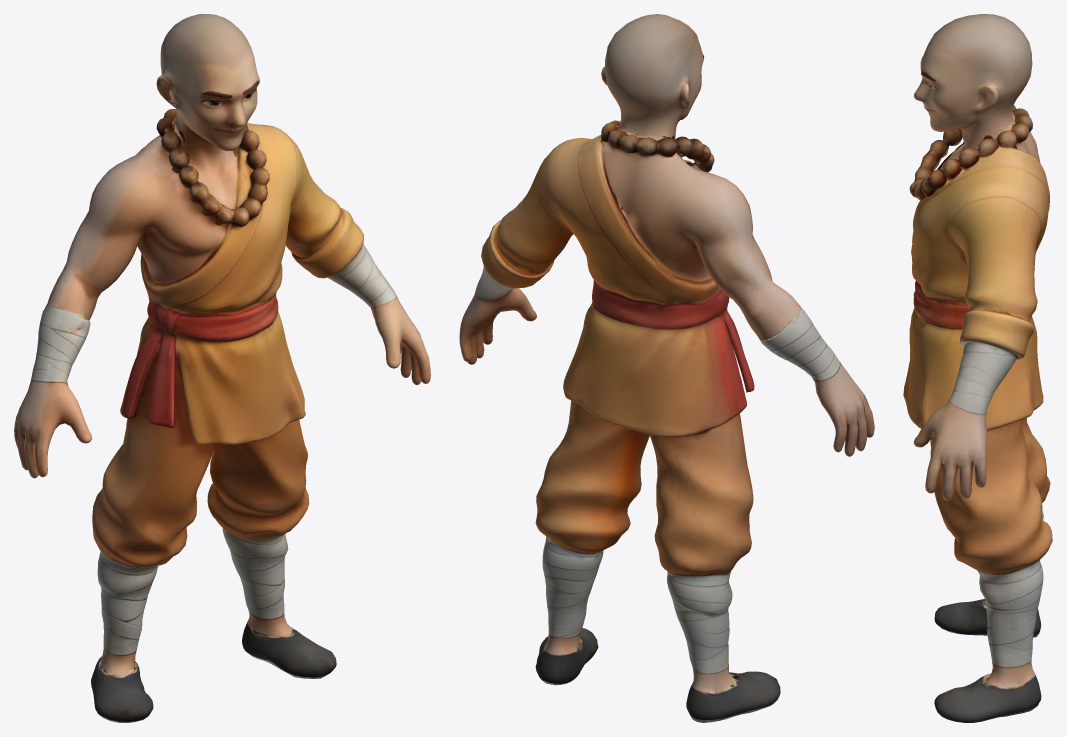
File: shaolin.glb
3 views of the same model, side by side, from view 1: azimuth 30°, elevation 25°; view 2: azimuth 150°, elevation 25°; view 3: azimuth 270°, elevation 25° (orthographic). The views are drawn at different scales.
Visible parts, largest first — view 1: tripo_node_ebd10573-392c-4999-b7a2-4d03419339c8; view 2: tripo_node_ebd10573-392c-4999-b7a2-4d03419339c8; view 3: tripo_node_ebd10573-392c-4999-b7a2-4d03419339c8.
Part boxes in pixels (box(x1,y1,x2,y2)): tripo_node_ebd10573-392c-4999-b7a2-4d03419339c8: box(14, 14, 430, 722); tripo_node_ebd10573-392c-4999-b7a2-4d03419339c8: box(459, 14, 874, 722); tripo_node_ebd10573-392c-4999-b7a2-4d03419339c8: box(903, 14, 1052, 722).
Bounding box in the file's own units: 0.61 × 0.9804 × 0.2035.
1 material, 1 textured.
